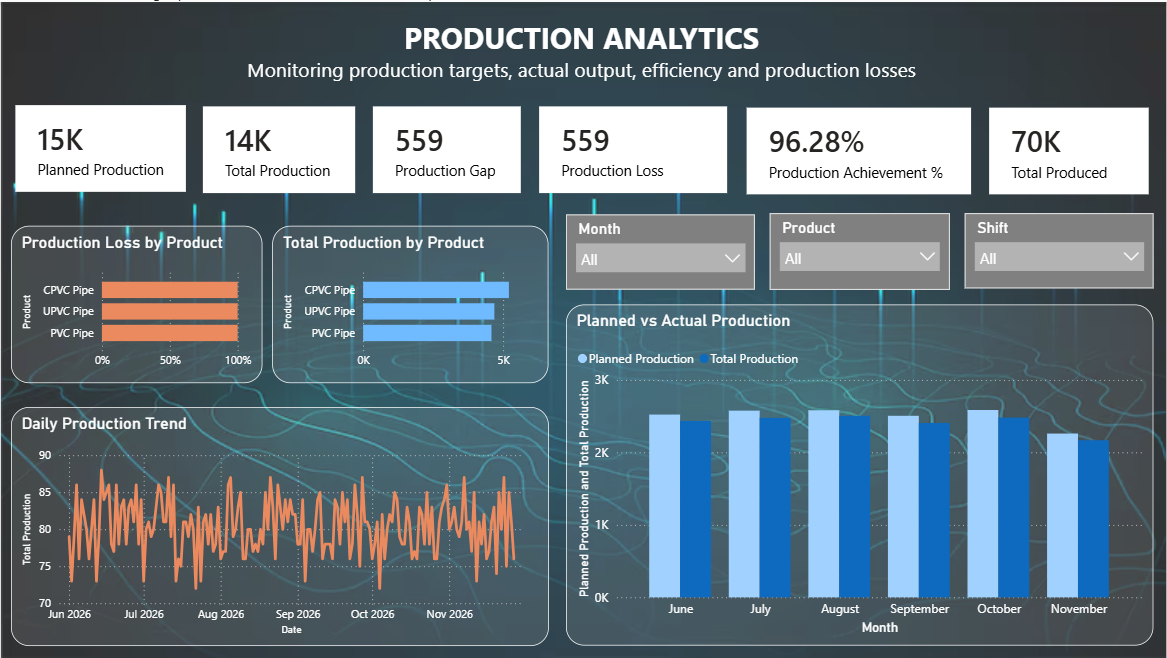

Layout of this report page (visuals, bound fields, positions):
{"tool":"powerbi","page":{"name":"Production Analytics","canvas":[1280,720],"ordinal":1},"visuals":[{"type":"textbox","box":[9.6,12.3,1255.6,83.7],"z":0},{"type":"cardVisual","fields":{"Data":["Measures (2).Planned Production"]},"box":[11,108.4,197.6,105.7],"z":1000},{"type":"cardVisual","fields":{"Data":["Measures (2).Total Production"]},"box":[216.8,109.8,177,105.7],"z":2000},{"type":"cardVisual","fields":{"Data":["Measures (2).Production Achievement %"]},"box":[813.7,111.1,256.6,105.7],"z":3000},{"type":"cardVisual","fields":{"Data":["Measures (2).Production Loss"]},"box":[585.9,109.8,216.8,105.7],"z":4000},{"type":"cardVisual","fields":{"Data":["Calendar.Production Gap"]},"box":[403.4,109.8,172.9,105.7],"z":5000},{"type":"slicer","fields":{"Values":["Calendar.Month"]},"box":[620.2,233.3,207.2,82.3],"z":6000},{"type":"slicer","fields":{"Values":["Production_Data.Shift"]},"box":[1058,231.9,207.2,82.3],"z":7000},{"type":"slicer","fields":{"Values":["Production_Data.Product"]},"box":[843.9,231.9,197.6,83.7],"z":8000},{"type":"clusteredColumnChart","title":"Planned vs Actual Production","fields":{"Category":["Calendar.Month"],"Y":["Measures (2).Planned Production","Measures (2).Total Production"]},"box":[620.2,332.1,644.9,374.6],"z":9000},{"type":"clusteredBarChart","fields":{"Category":["Production_Data.Product"],"Y":["Measures (2).Total Production"]},"box":[297.8,245.6,303.3,172.9],"z":10000},{"type":"hundredPercentStackedBarChart","fields":{"Category":["Production_Data.Product"],"Y":["Measures (2).Production Loss"]},"box":[11,245.6,275.8,172.9],"z":11000},{"type":"lineChart","title":"Daily Production Trend","fields":{"Category":["Calendar.Date"],"Y":["Measures (2).Total Production"]},"box":[11,444.6,590.1,262.1],"z":12000},{"type":"cardVisual","fields":{"Data":["Measures (2).Total Produced"]},"box":[1079.9,111.1,185.2,105.7],"z":13000}]}

Visuals, with their boxes in screenshot pixels (x1, y1, x2, y2), scaled from the page's 1280x720 canvas onto the 1167x658 screenshot:
textbox: [9,11,1154,88]
cardVisual - Measures (2).Planned Production: [10,99,190,196]
cardVisual - Measures (2).Total Production: [198,100,359,197]
cardVisual - Measures (2).Production Achievement %: [742,102,976,198]
cardVisual - Measures (2).Production Loss: [534,100,732,197]
cardVisual - Calendar.Production Gap: [368,100,525,197]
slicer - Calendar.Month: [565,213,754,288]
slicer - Production_Data.Shift: [965,212,1154,287]
slicer - Production_Data.Product: [769,212,950,288]
"Planned vs Actual Production" clusteredColumnChart: [565,304,1153,646]
clusteredBarChart - Production_Data.Product x Measures (2).Total Production: [272,224,548,382]
hundredPercentStackedBarChart - Production_Data.Product x Measures (2).Production Loss: [10,224,261,382]
"Daily Production Trend" lineChart: [10,406,548,646]
cardVisual - Measures (2).Total Produced: [985,102,1153,198]
